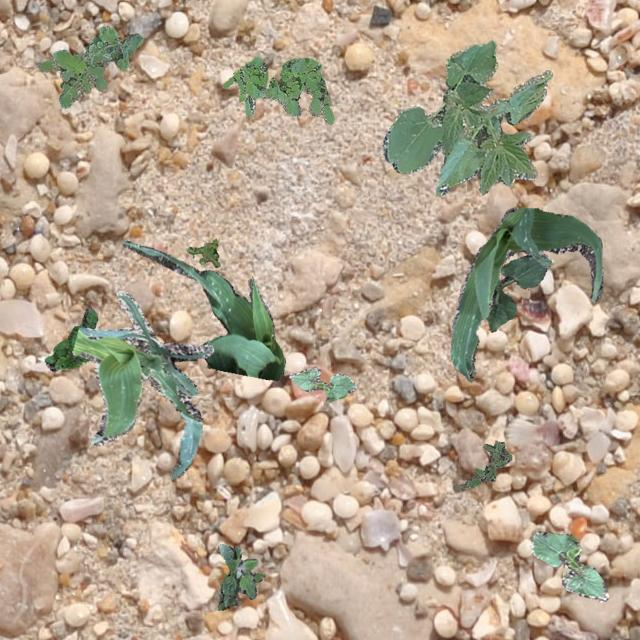crop: (449, 207, 602, 380), (72, 290, 212, 478), (382, 40, 552, 194), (122, 240, 284, 380), (530, 530, 608, 600), (484, 253, 546, 330), (288, 366, 356, 402)
weed: (37, 26, 142, 108), (222, 55, 332, 124), (44, 306, 96, 370), (216, 542, 264, 610), (452, 440, 510, 490), (186, 238, 218, 266)
